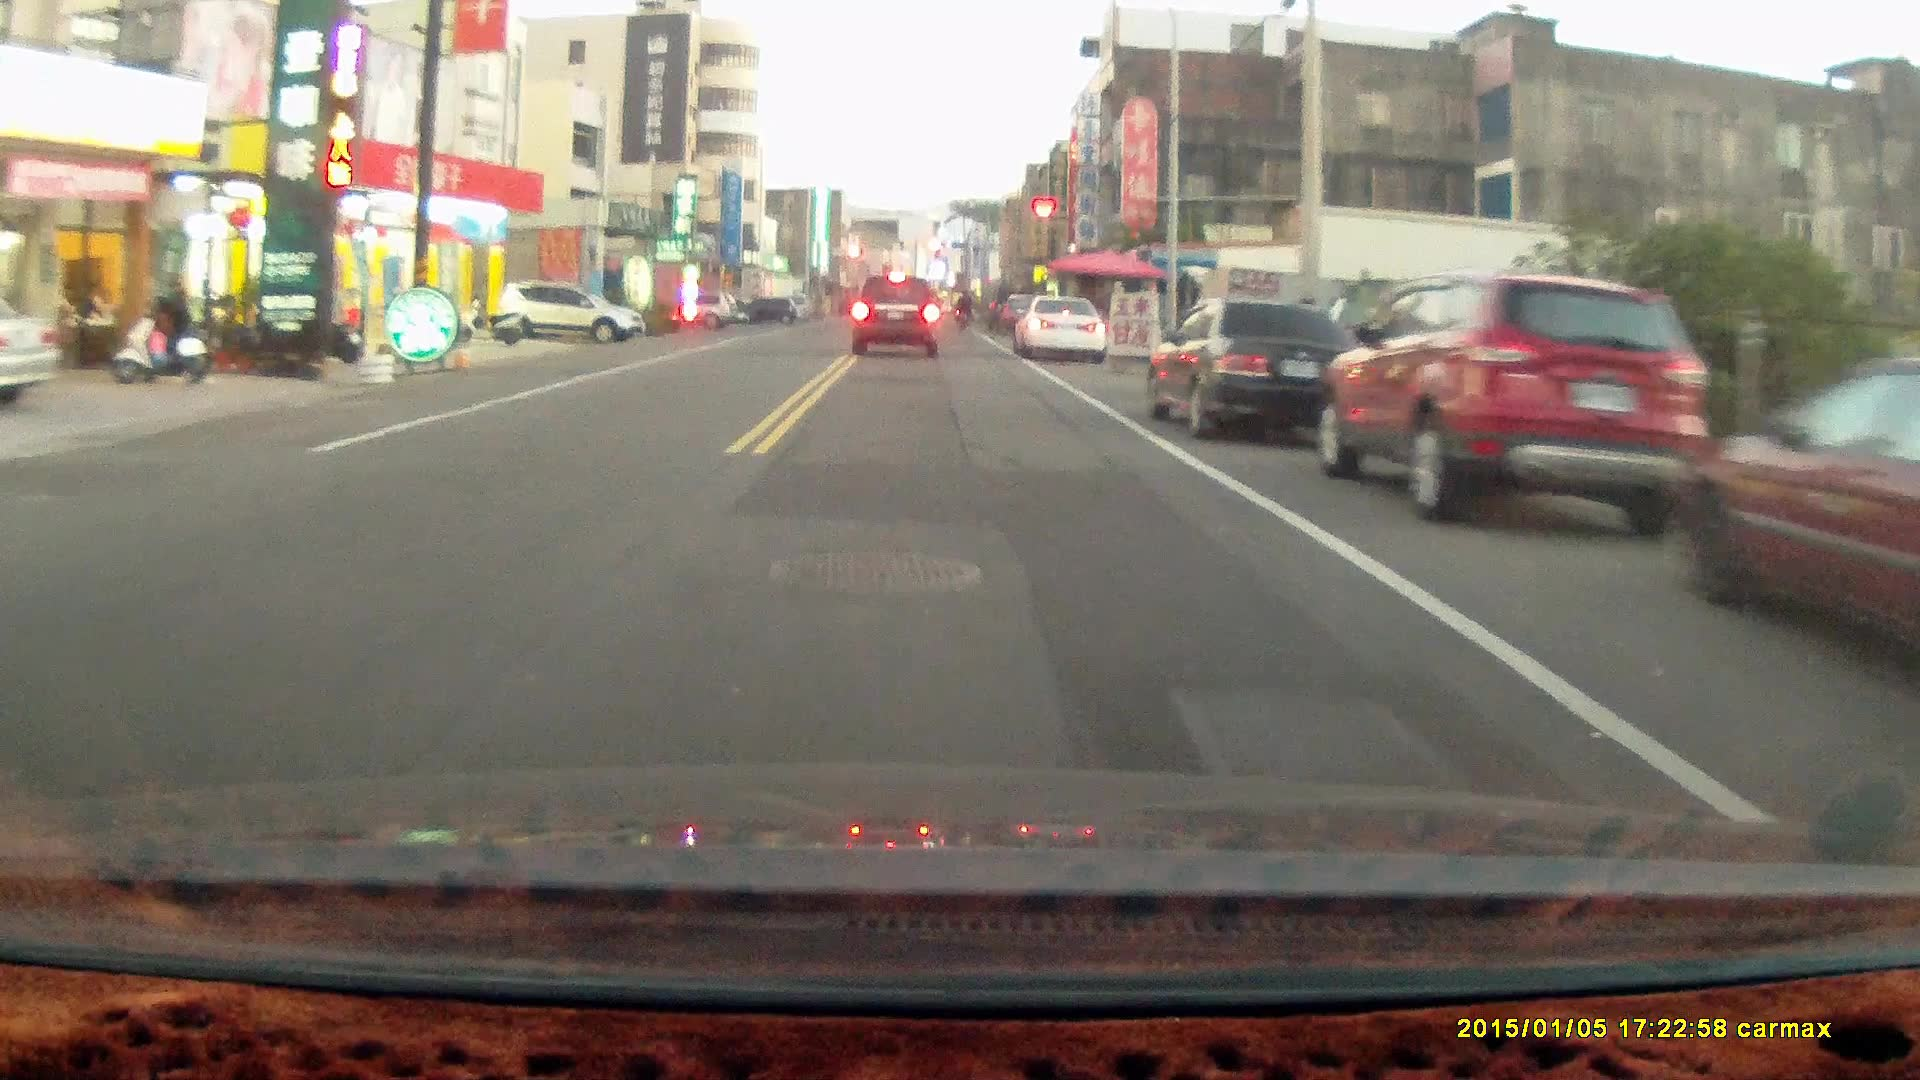vehicle: (1317, 273, 1712, 538), (1142, 297, 1349, 447), (498, 281, 651, 353), (852, 276, 942, 360), (1015, 299, 1110, 368)
